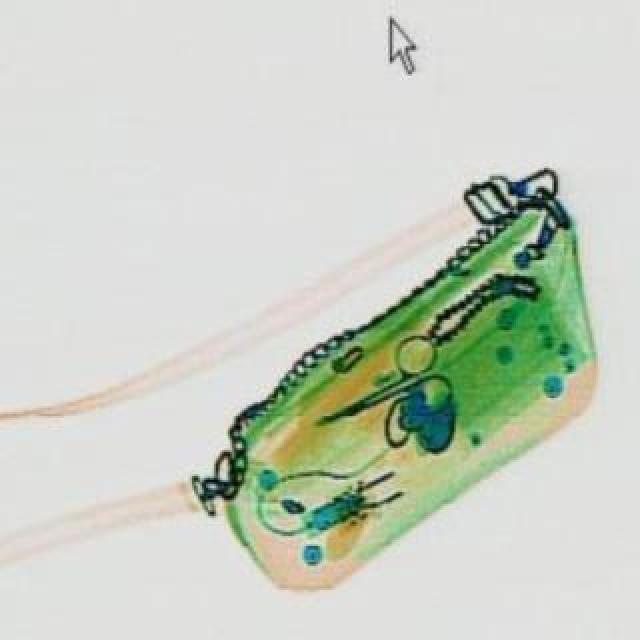pliers: (296, 326, 464, 456)
